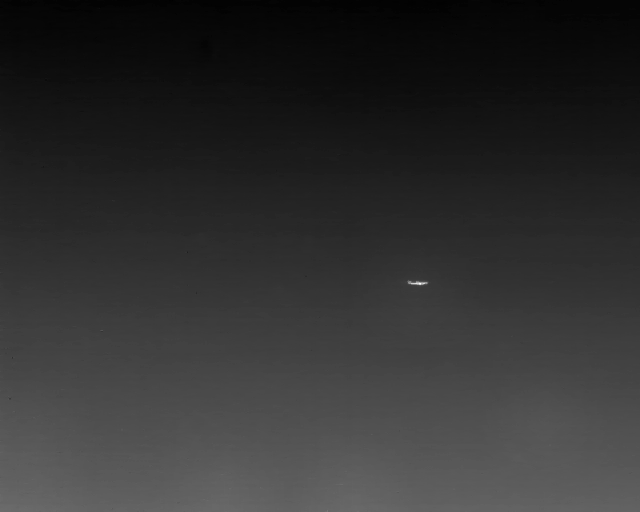Target: (408, 281, 432, 287)
